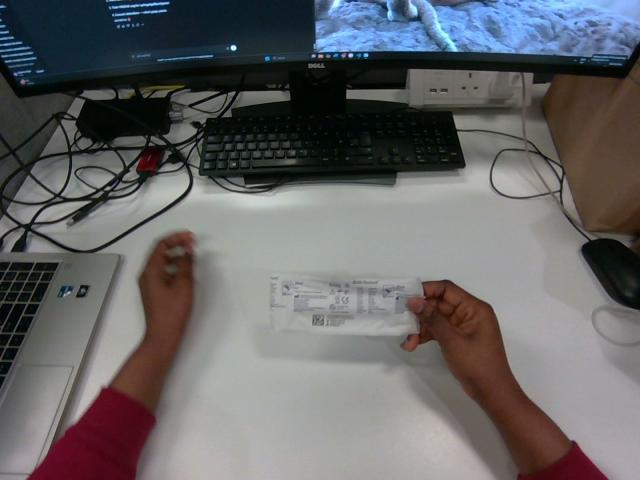syringe: (270, 275, 423, 335)
